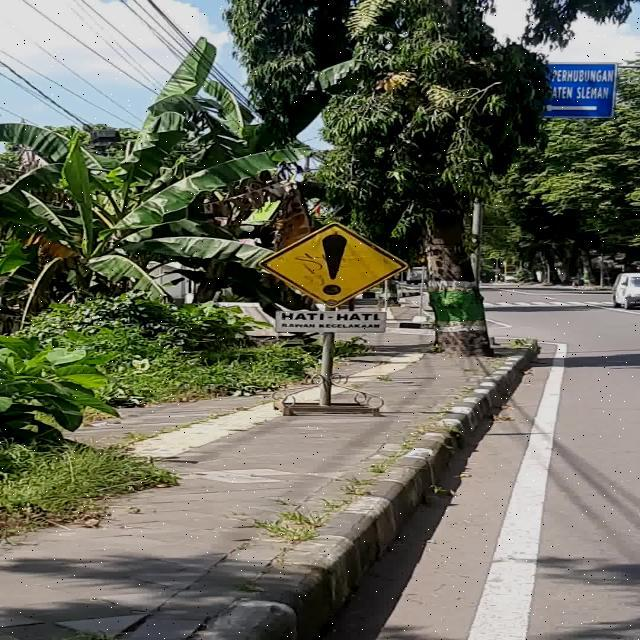Hati-Hati: (256, 222, 408, 308)
